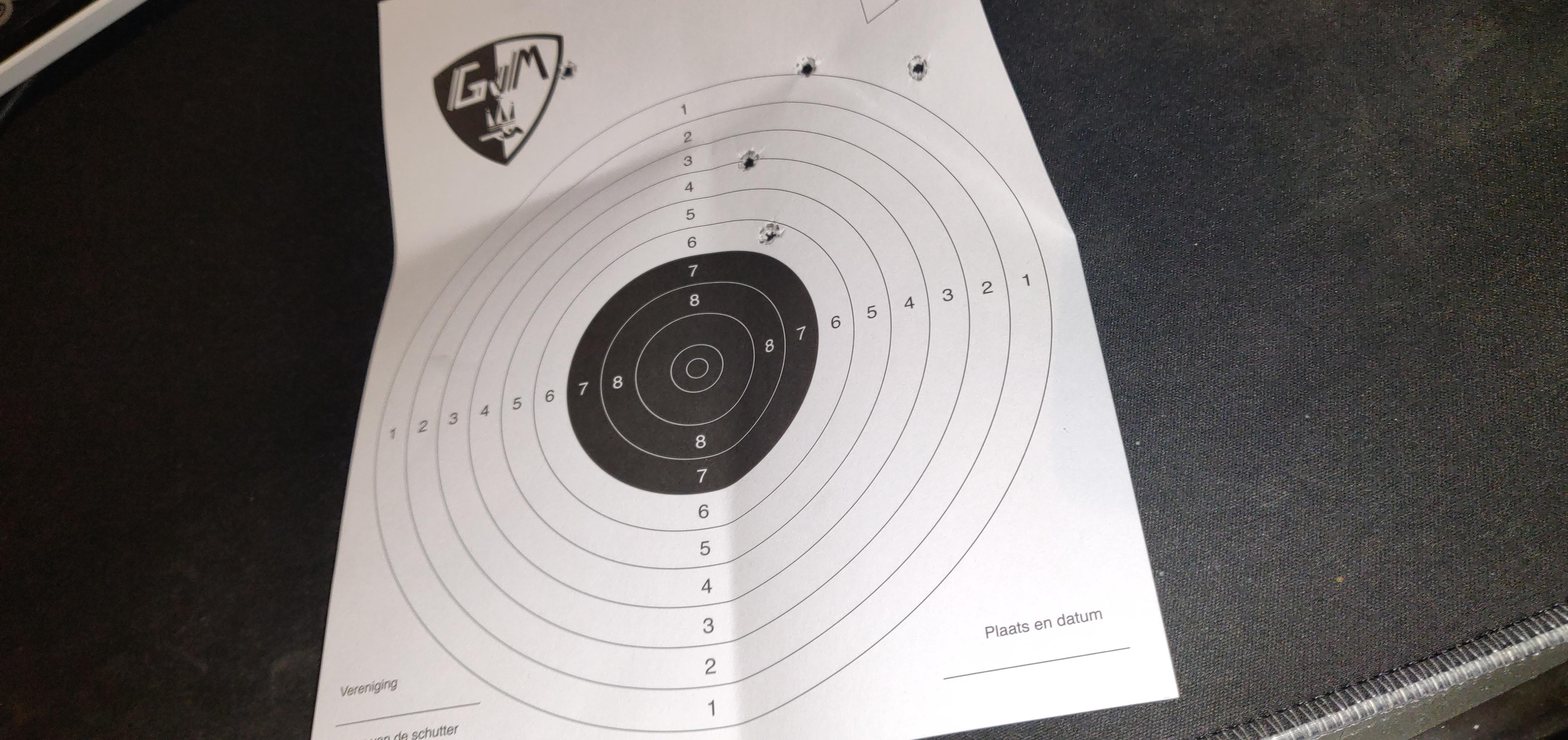hole: (757, 219, 787, 248), (905, 55, 932, 82), (737, 147, 762, 174), (793, 54, 821, 78), (557, 61, 580, 83)
